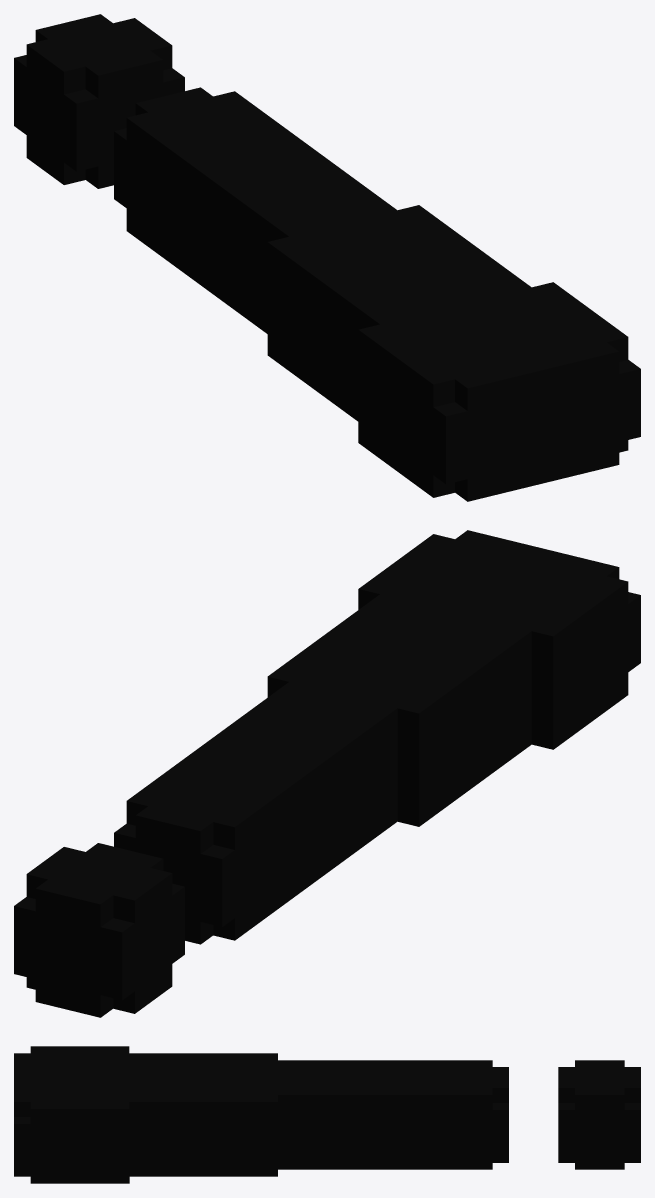
Rendered from B_WarningStun.fbx.
3 views of the same model, one above another, from view 1: azimuth 30°, elevation 25°; view 2: azimuth 150°, elevation 25°; view 3: azimuth 270°, elevation 25° (orthographic). The views are drawn at different scales.
Parts seen in each view (by area): view 1: Untitled; view 2: Untitled; view 3: Untitled.
Boxes of the visible parts, box(x1,y1,x2,y2) form: Untitled: box(14, 14, 640, 501); Untitled: box(14, 530, 640, 1017); Untitled: box(14, 1046, 640, 1183).
Bounding box in the file's own units: 0.9 × 0.5 × 3.8.
